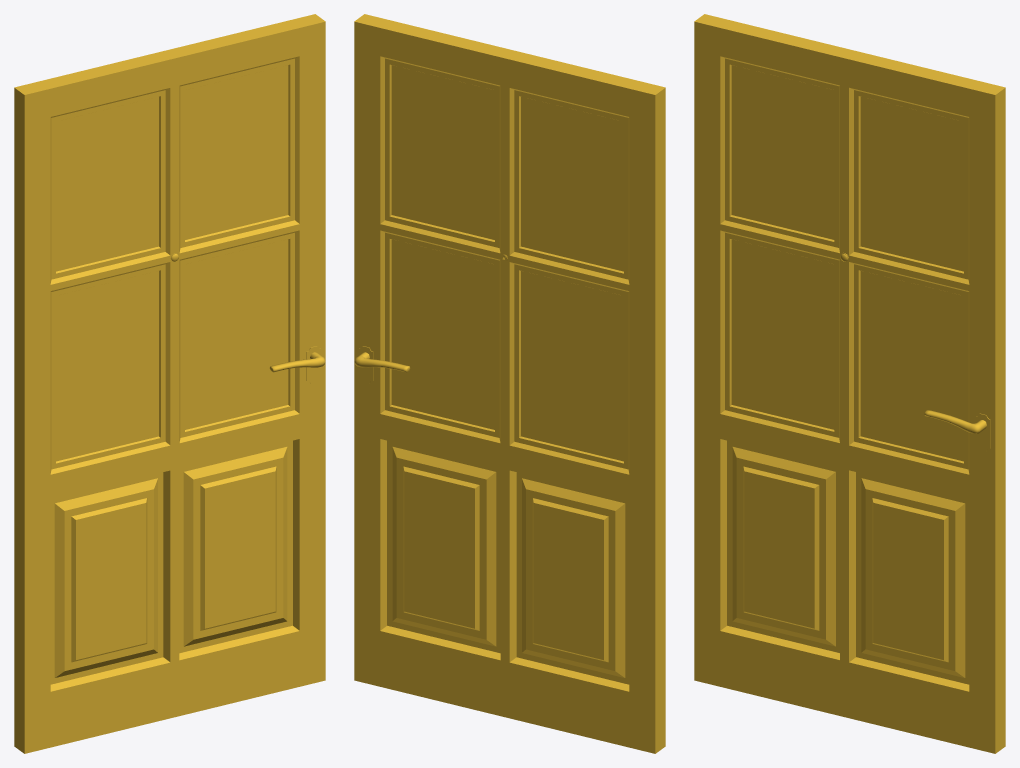
The model's file is Door_out_001.fbx.
3 renders of one model, left to right at view 1: azimuth 30°, elevation 25°; view 2: azimuth 150°, elevation 25°; view 3: azimuth 330°, elevation 25°, orthographic.
Visible parts, largest first — view 1: Door_out_001; view 2: Door_out_001; view 3: Door_out_001.
Part boxes in pixels (x1,y1,x2,y2): Door_out_001: (14, 14, 325, 753); Door_out_001: (354, 14, 665, 753); Door_out_001: (694, 14, 1005, 753).
Bounding box in the file's own units: 100 × 209 × 16.94.
